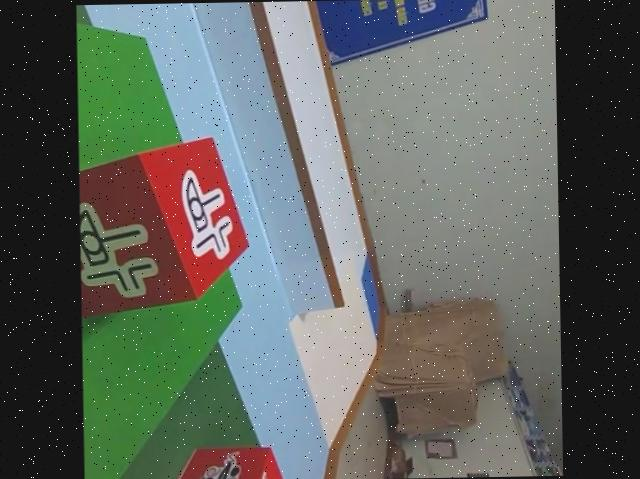R1: (143, 439, 299, 479)
R2 Real: (79, 132, 255, 319)
